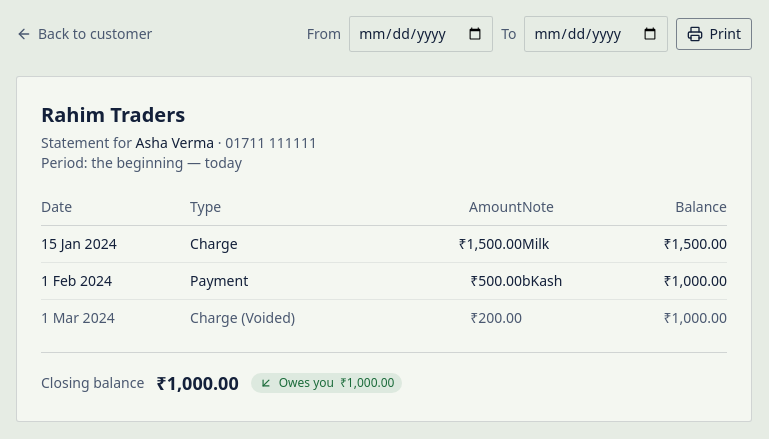
Scenario: StatementPage (S-39) › filters by period and recomputes the closing balance
Check: the heading "Rahim Traders" is shown, box [41, 101, 185, 128]
In the date field labelled "From": (421, 34) [349, 16, 493, 52], type "2024-02-01"
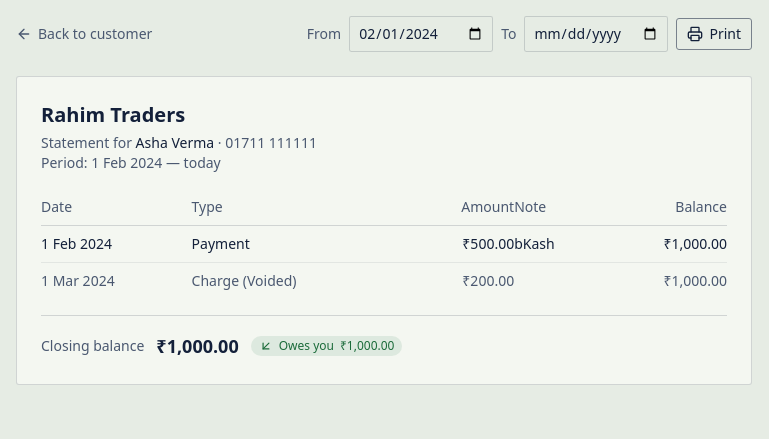
Check: the text "bKash" is shown, box [514, 226, 597, 262]
Check: the text "₹1,500.00" is gone
